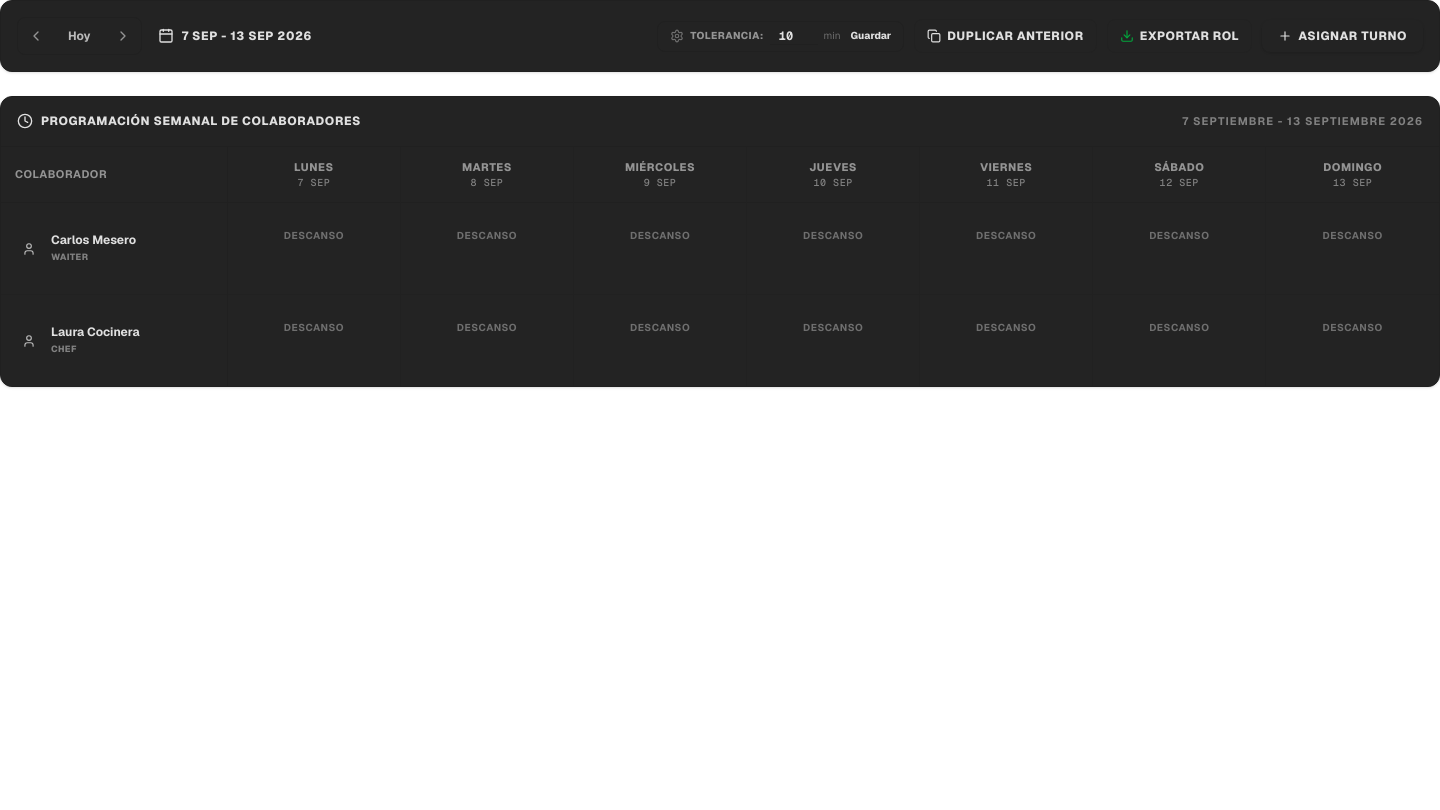
Test case: WeeklyShiftPlanner Component › opens ShiftModal when clicking the cell '+ Turno' button
expect the text "Carlos Mesero" is shown: met, box 51,233 -> 136,248
What coordinates should you click on to do the following:
click the button "Asignar Turno"
I would click on:
 (1343, 36)
Its box is 1262,20 -> 1423,52.
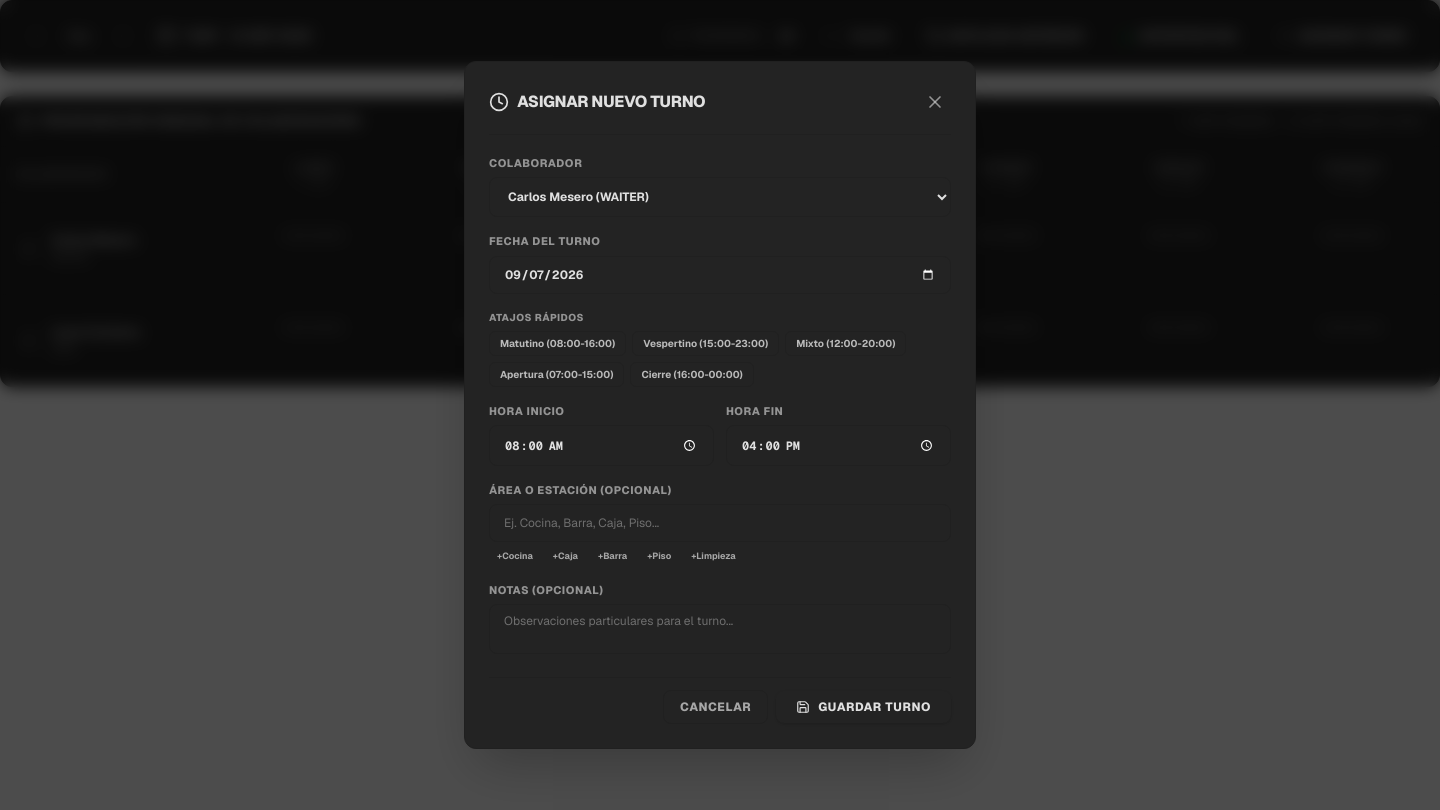
expect the heading "Asignar Nuevo Turno" is shown: met, box 517,90 -> 705,114
